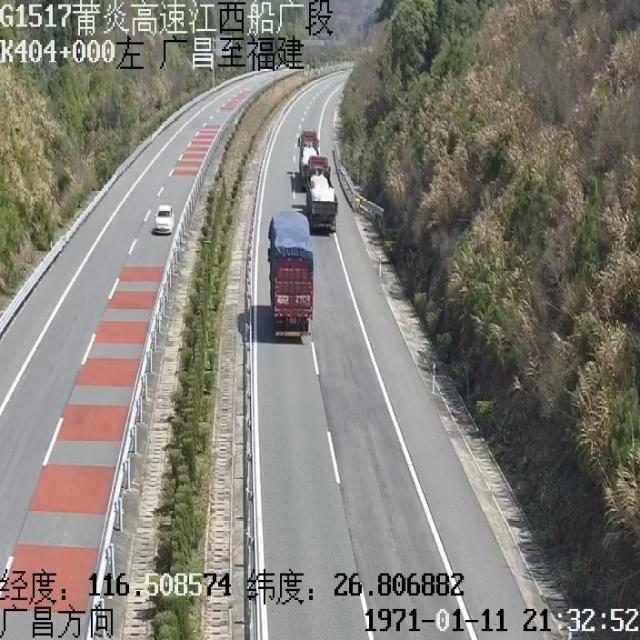point: (312, 50, 366, 100), (242, 64, 284, 105)
